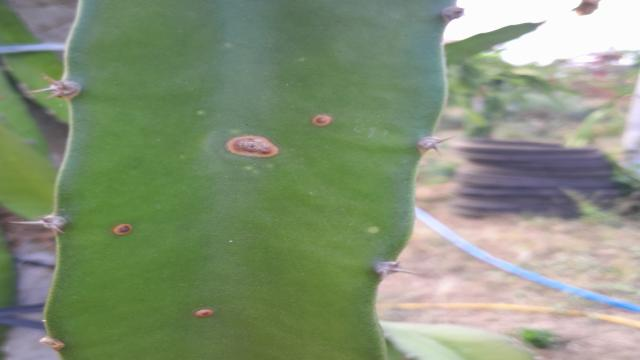stemcanker: (223, 132, 283, 163), (108, 220, 137, 239), (189, 305, 218, 323), (308, 110, 335, 129)
